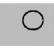correct: (20, 10, 46, 31)
